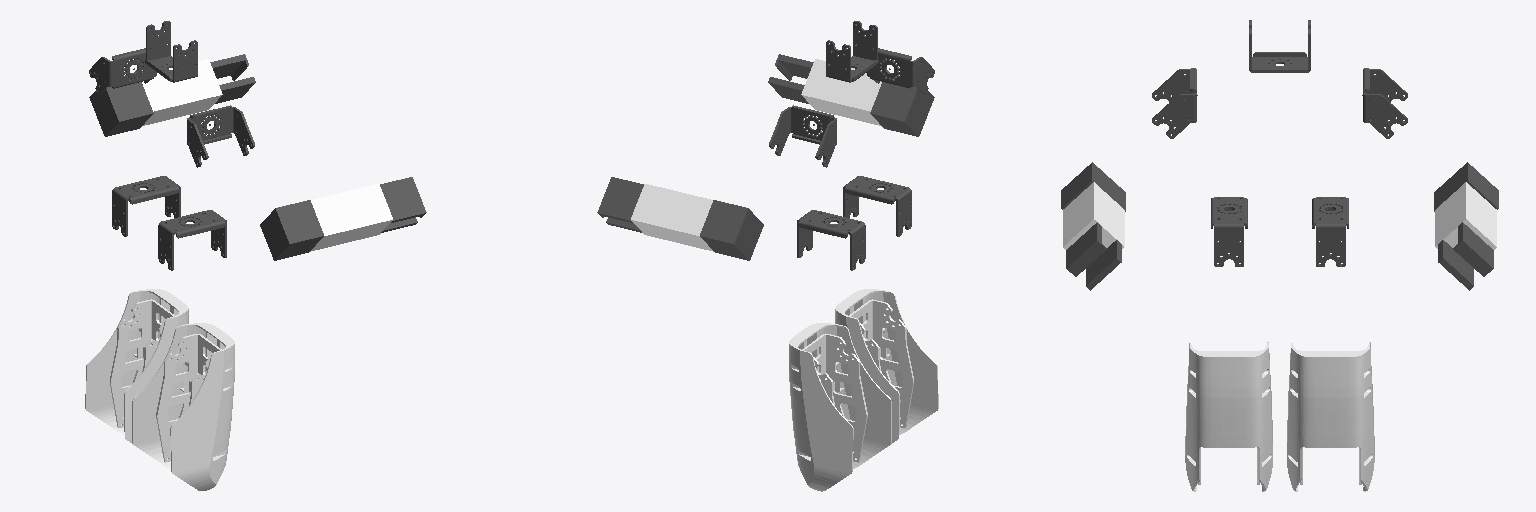
--- What the picture shows (computed from the rendered views, not written in the file) ---
The picture shows the robot from 3 angles, left to right: view 1: azimuth 30°, elevation 25°; view 2: azimuth 150°, elevation 25°; view 3: azimuth 270°, elevation 25°; orthographic projection.
Robot: robotis_op2 — 31 links, 30 joints (24 revolute, 6 fixed); root link base_link; default pose: every joint at zero.
Links seen in each view (by area): view 1: MP_TIBIA_R, MP_TIBIA_L, MP_ARM_GRIPPER_FIX_R, MP_ARM_GRIPPER_FIX_L, MP_ARM_LOW_R, MP_ARM_LOW_L, MP_SHOULDER_R, MP_NECK, MP_PELVIS_R, MP_PELVIS_L, MP_SHOULDER_L, MP_ARM_GRIPPER_MOV_R (+2 smaller); view 2: MP_TIBIA_L, MP_TIBIA_R, MP_ARM_GRIPPER_FIX_L, MP_ARM_GRIPPER_FIX_R, MP_ARM_LOW_L, MP_ARM_LOW_R, MP_SHOULDER_L, MP_NECK, MP_PELVIS_L, MP_PELVIS_R, MP_SHOULDER_R, MP_ARM_GRIPPER_MOV_L (+2 smaller); view 3: MP_TIBIA_L, MP_TIBIA_R, MP_ARM_GRIPPER_FIX_L, MP_ARM_GRIPPER_FIX_R, MP_PELVIS_L, MP_PELVIS_R, MP_SHOULDER_L, MP_SHOULDER_R, MP_NECK, MP_ARM_LOW_L, MP_ARM_LOW_R, MP_ARM_GRIPPER_MOV_L (+3 smaller).
Boxes of the visible links, <box> form: MP_TIBIA_R: <box>132,323,234,490</box>; MP_TIBIA_L: <box>85,289,188,442</box>; MP_ARM_GRIPPER_FIX_R: <box>310,184,392,251</box>; MP_ARM_GRIPPER_FIX_L: <box>142,59,222,125</box>; MP_ARM_LOW_R: <box>260,200,323,260</box>; MP_ARM_LOW_L: <box>89,76,153,136</box>; MP_SHOULDER_R: <box>187,105,254,167</box>; MP_NECK: <box>145,21,197,82</box>; MP_PELVIS_R: <box>158,210,226,270</box>; MP_PELVIS_L: <box>112,176,180,236</box>; MP_SHOULDER_L: <box>89,48,156,94</box>; MP_ARM_GRIPPER_MOV_R: <box>380,177,426,222</box>; MP_TIBIA_L: <box>789,323,891,491</box>; MP_TIBIA_R: <box>835,289,938,442</box>; MP_ARM_GRIPPER_FIX_L: <box>631,184,713,251</box>; MP_ARM_GRIPPER_FIX_R: <box>801,59,881,125</box>; MP_ARM_LOW_L: <box>700,200,763,260</box>; MP_ARM_LOW_R: <box>870,76,934,136</box>; MP_SHOULDER_L: <box>769,105,836,167</box>; MP_NECK: <box>826,21,878,82</box>; MP_PELVIS_L: <box>797,210,865,270</box>; MP_PELVIS_R: <box>843,176,911,236</box>; MP_SHOULDER_R: <box>867,48,934,94</box>; MP_ARM_GRIPPER_MOV_L: <box>597,177,643,222</box>; MP_TIBIA_L: <box>1287,342,1374,491</box>; MP_TIBIA_R: <box>1185,342,1272,491</box>; MP_ARM_GRIPPER_FIX_L: <box>1435,182,1496,249</box>; MP_ARM_GRIPPER_FIX_R: <box>1063,182,1124,249</box>; MP_PELVIS_L: <box>1312,197,1348,266</box>; MP_PELVIS_R: <box>1211,197,1247,266</box>; MP_SHOULDER_L: <box>1363,68,1407,138</box>; MP_SHOULDER_R: <box>1152,68,1196,138</box>; MP_NECK: <box>1249,20,1310,72</box>; MP_ARM_LOW_L: <box>1434,162,1498,211</box>; MP_ARM_LOW_R: <box>1061,162,1125,211</box>; MP_ARM_GRIPPER_MOV_L: <box>1453,222,1493,276</box>.
Size in the robot's own frame: 0.184 by 0.3189 by 0.3758 metres.
7 mesh visuals loaded from 19 distinct referenced files (7 OBJ); not drawn: 12 (reference not matched to a file when rendering).

URDF robot description (robotis_op2):
<?xml version="1.0" ?>
<!-- =================================================================================== -->
<!-- |    This document was autogenerated by xacro from robotis_op.urdf.xacro          | -->
<!-- |    EDITING THIS FILE BY HAND IS NOT RECOMMENDED                                 | -->
<!-- =================================================================================== -->
<robot name="robotis_op2" xmlns:xacro="http://www.ros.org/wiki/xacro">
  <!-- unit conversions -->
  <!-- inventor sometimes gives ridiculous units -->
  <!-- such conversion factors make description easier to read -->
  <!-- unit conversions -->
  <!-- inventor sometimes gives ridiculous units -->
  <!-- such conversion factors make description easier to read -->


  <material name="black">
    <color rgba="0.0 0.0 0.0 1.0"/>
  </material>

  <material name="blue">
    <color rgba="0.0 0.0 0.8 1.0"/>
  </material>

  <material name="green">
    <color rgba="0.0 0.8 0.0 1.0"/>
  </material>

  <material name="grey">
    <color rgba="0.40 0.40 0.40 1.0"/>
  </material>

  <material name="orange">
    <color rgba="1.0 0.4235 0.0392 1.0"/>
  </material>

  <material name="brown">
    <color rgba="1.0 0.8118 0.7647 1.0"/>
  </material>

  <material name="red">
    <color rgba="0.8 0.0 0.0 1.0"/>
  </material>

  <material name="white">
    <color rgba="1.0 1.0 1.0 1.0"/>
  </material>

  <material name="beige">
    <color rgba="0.98 0.915 0.72 1.0"/>
  </material>

  <material name="temp">
    <color rgba="0.5 0.5 0.8 1.0"/>
  </material>


  <link name="base_link"/>
  <link name="MP_BODY">
    <inertial>
      <origin xyz="-0.003053 -0.038651 -0.019268"/>
      <mass value="0.97559947"/>
      <inertia ixx="0.001879411079" ixy="0.0" ixz="0.0" iyy="0.00175933104423" iyz="0.0" izz="0.00181176951575"/>
    </inertial>
    <collision>
      <origin rpy="0 0 0" xyz="-0.0235 0 -0.03525"/>
      <geometry>
        <box size="0.102 0.109 0.106"/>
      </geometry>
    </collision>
    <visual>
      <origin rpy="0 0 0" xyz="0 0 0"/>
      <geometry>
        <mesh filename="meshes/body.obj" scale="1 1 1"/>
      </geometry>
      <material name="white"/>
    </visual>
  </link>
  <joint name="base_link_to_body" type="fixed">
    <parent link="base_link"/>
    <child link="MP_BODY"/>
    <origin rpy="0 0 0" xyz="0 0 0.35"/>
  </joint>
  <gazebo>
    <plugin filename="libhector_gazebo_ros_imu.so" name="gazebo_ros_imu">
      <bodyName>MP_BODY</bodyName>
      <updateRate>50</updateRate>
      <serviceName>/robotis_op/imu_service</serviceName>
      <topicName>/robotis_op/imu</topicName>
      <gaussianNoise>0</gaussianNoise>
      <xyzOffset>0 0 0</xyzOffset>
      <rpyOffset>0 0 -0.703220730592</rpyOffset>
    </plugin>
  </gazebo>
  <link name="MP_BACK_L">
    <inertial>
      <origin xyz="-0.0031158909 0.020443695 -0.019663084"/>
      <mass value="0.01"/>
      <inertia ixx="1.66666666667e-07" ixy="0.0" ixz="0.0" iyy="1.66666666667e-07" iyz="0.0" izz="1.66666666667e-07"/>
    </inertial>
    <collision>
      <origin xyz="-0.0031158909 0.020443695 -0.019663084"/>
      <geometry>
        <box scale="1 1 1" size="0.001 0.001 0.001"/>
      </geometry>
    </collision>
    <visual>
      <origin rpy="0 0 0" xyz="0.0 0.0 0.0"/>
      <geometry>
        <box scale="1 1 1" size="0.001 0.001 0.001"/>
      </geometry>
      <material name="grey"/>
    </visual>
  </link>
  <link name="MP_SHOULDER_L">
    <inertial>
      <origin xyz="-0.013522619 -0.010264050 0.0013935747"/>
      <mass value="0.025913024"/>
      <inertia ixx="3.36377504399e-06" ixy="0.0" ixz="0.0" iyy="1.56497929465e-06" iyz="0.0" izz="2.90441810667e-06"/>
    </inertial>
    <collision>
      <origin xyz="-0.013522619 -0.010264050 0.0013935747"/>
      <geometry>
        <box size="0.016 0.033 0.02165"/>
      </geometry>
    </collision>
    <visual>
      <origin rpy="0 0 0" xyz="0 0 0"/>
      <geometry>
        <mesh filename="meshes/shoulder_l.obj" scale="1 1 1"/>
      </geometry>
      <material name="grey"/>
    </visual>
  </link>
  <link name="MP_ARM_HIGH_L">
    <inertial>
      <origin xyz="-0.036239 0.000734 0.000660"/>
      <mass value="0.16837715"/>
      <inertia ixx="3.15566841958e-05" ixy="0.0" ixz="0.0" iyy="6.77016457292e-05" iyz="0.0" izz="6.48813284667e-05"/>
    </inertial>
    <collision>
      <origin xyz="-0.036239 0.000734 0.000660"/>
      <geometry>
        <box size="0.06 0.032 0.035"/>
      </geometry>
    </collision>
    <visual>
      <origin rpy="0 0 0" xyz="0 0 0"/>
      <geometry>
        <mesh filename="meshes/arm_high_l.obj" scale="1 1 1"/>
      </geometry>
      <material name="white"/>
    </visual>
  </link>
  <link name="MP_ARM_LOW_L">
    <inertial>
      <origin rpy="0 0 0" xyz="0.0 0 0"/>
      <mass value="0.01"/>
      <inertia ixx="8.74166666667e-07" ixy="0.0" ixz="0.0" iyy="1.70666666667e-06" iyz="0.0" izz="8.74166666667e-07"/>
    </inertial>
    <collision>
      <origin rpy="0 0 0" xyz="0.016 0.016 0"/>
      <geometry>
        <box size="0.032 0.032 0.035"/>
      </geometry>
    </collision>
    <visual>
      <origin rpy="0 0 0" xyz="0.016 0.016 0"/>
      <geometry>
        <box size="0.032 0.032 0.035"/>
      </geometry>
      <material name="grey"/>
    </visual>
  </link>
  <link name="MP_ARM_GRIPPER_FIX_L">
    <inertial>
      <origin xyz="0.045838 -0.013490 0.006666"/>
      <mass value="0.01"/>
      <inertia ixx="8.74166666667e-07" ixy="0.0" ixz="0.0" iyy="1.70666666667e-06" iyz="0.0" izz="8.74166666667e-07"/>
    </inertial>
    <collision>
      <origin rpy="0 0 0" xyz="0.016 0 0"/>
      <geometry>
        <box size="0.064 0.032 0.032"/>
      </geometry>
    </collision>
    <visual>
      <origin rpy="0 0 0" xyz="0.016 0 0"/>
      <geometry>
        <box size="0.064 0.032 0.032"/>
      </geometry>
      <material name="white"/>
    </visual>
  </link>
  <link name="MP_ARM_GRIPPER_FIX_DUMMY_L">
    <inertial>
      <origin rpy="0 0 0" xyz="0.0 0 0"/>
      <mass value="0.01"/>
      <inertia ixx="8.74166666667e-07" ixy="0.0" ixz="0.0" iyy="1.70666666667e-06" iyz="0.0" izz="8.74166666667e-07"/>
    </inertial>
    <collision>
      <geometry>
        <box size="0.032 0.005 0.032"/>
      </geometry>
    </collision>
    <visual>
      <origin rpy="0 0 0" xyz="0 0 0"/>
      <geometry>
        <box size="0.032 0.005 0.032"/>
      </geometry>
      <material name="grey"/>
    </visual>
  </link>
  <link name="MP_ARM_GRIPPER_MOV_L">
    <inertial>
      <origin rpy="0 0 0" xyz="0.0 0 0"/>
      <mass value="0.01"/>
      <inertia ixx="8.74166666667e-07" ixy="0.0" ixz="0.0" iyy="1.70666666667e-06" iyz="0.0" izz="8.74166666667e-07"/>
    </inertial>
    <collision name="COL_MP_ARM_GRIPPER_MOV_L">
      <origin rpy="0 0 0" xyz="0.016 0 0"/>
      <geometry>
        <box size="0.032 0.005 0.032"/>
      </geometry>
    </collision>
    <collision name="COL_MP_ARM_GRIPPER_MOV_EXT_L">
      <origin rpy="0 0 0" xyz="0.031 -0.0025 0"/>
      <geometry>
        <box size="0.002 0.01 0.032"/>
      </geometry>
    </collision>
    <visual name="VIS_MP_ARM_GRIPPER_MOV_L">
      <origin rpy="0 0 0" xyz="0.016 0 0"/>
      <geometry>
        <box size="0.032 0.005 0.032"/>
      </geometry>
      <material name="grey"/>
    </visual>
    <visual name="VIS_MP_ARM_GRIPPER_MOV_EXT_L">
      <origin rpy="0 0 0" xyz="0.031 -0.0025 0"/>
      <geometry>
        <box size="0.002 0.01 0.032"/>
      </geometry>
      <material name="grey"/>
    </visual>
  </link>
  <link name="MP_BACK_R">
    <inertial>
      <origin xyz="0.0 0.0 -0.0"/>
      <mass value="0.01"/>
      <inertia ixx="1.66666666667e-07" ixy="0.0" ixz="0.0" iyy="1.66666666667e-07" iyz="0.0" izz="1.66666666667e-07"/>
    </inertial>
    <collision>
      <geometry>
        <box size="0.001 0.001 0.001"/>
      </geometry>
    </collision>
    <visual>
      <origin rpy="0 0 0" xyz="0.0 0.0 0.0"/>
      <geometry>
        <box size="0.001 0.001 0.001"/>
      </geometry>
      <material name="grey"/>
    </visual>
  </link>
  <link name="MP_SHOULDER_R">
    <inertial>
      <origin xyz="-0.013523 0.010264 0.001394"/>
      <mass value="0.025913024"/>
      <inertia ixx="3.36377504399e-06" ixy="0.0" ixz="0.0" iyy="1.56497929465e-06" iyz="0.0" izz="2.90441810667e-06"/>
    </inertial>
    <collision>
      <origin xyz="-0.013523 0.010264 0.001394"/>
      <geometry>
        <box size="0.016 0.033 0.02165"/>
      </geometry>
    </collision>
    <visual>
      <origin rpy="0 0 0" xyz="0 0 0"/>
      <geometry>
        <mesh filename="meshes/shoulder_r.obj" scale="1 1 1"/>
      </geometry>
      <material name="grey"/>
    </visual>
  </link>
  <link name="MP_ARM_HIGH_R">
    <inertial>
      <origin xyz="-0.036239 0.000734 -0.000660"/>
      <mass value="0.16837715"/>
      <inertia ixx="3.15566841958e-05" ixy="0.0" ixz="0.0" iyy="6.77016457292e-05" iyz="0.0" izz="6.48813284667e-05"/>
    </inertial>
    <collision>
      <origin xyz="-0.036239 0.000734 -0.000660"/>
      <geometry>
        <box size="0.06 0.032 0.035"/>
      </geometry>
    </collision>
    <visual>
      <origin rpy="0 0 0" xyz="0 0 0"/>
      <geometry>
        <mesh filename="meshes/arm_high_r.obj" scale="1 1 1"/>
      </geometry>
      <material name="white"/>
    </visual>
  </link>
  <link name="MP_ARM_LOW_R">
    <inertial>
      <origin xyz="0.000000 0.000000 0.000000"/>
      <mass value="0.059288504"/>
      <inertia ixx="1.11116537913e-05" ixy="0.0" ixz="0.0" iyy="1.11116537913e-05" iyz="0.0" izz="1.01185713493e-05"/>
    </inertial>
    <collision>
      <origin rpy="0 0 0" xyz="0.016 -0.016 0"/>
      <geometry>
        <box size="0.032 0.032 0.035"/>
      </geometry>
    </collision>
    <visual>
      <origin rpy="0 0 0" xyz="0.016 -0.016 0"/>
      <geometry>
        <box size="0.032 0.032 0.035"/>
      </geometry>
      <material name="grey"/>
    </visual>
  </link>
  <link name="MP_ARM_GRIPPER_FIX_R">
    <inertial>
      <origin rpy="0 0 0" xyz="0.0 0 0"/>
      <mass value="0.01"/>
      <inertia ixx="8.74166666667e-07" ixy="0.0" ixz="0.0" iyy="1.70666666667e-06" iyz="0.0" izz="8.74166666667e-07"/>
    </inertial>
    <collision>
      <origin rpy="0 0 0" xyz="0.016 0 0"/>
      <geometry>
        <box size="0.064 0.032 0.032"/>
      </geometry>
    </collision>
    <visual>
      <origin rpy="0 0 0" xyz="0.016 0 0"/>
      <geometry>
        <box size="0.064 0.032 0.032"/>
      </geometry>
      <material name="white"/>
    </visual>
  </link>
  <link name="MP_ARM_GRIPPER_FIX_DUMMY_R">
    <inertial>
      <origin xyz="0.0 0.0 0.0"/>
      <mass value="0.01"/>
      <inertia ixx="8.74166666667e-07" ixy="0.0" ixz="0.0" iyy="1.70666666667e-06" iyz="0.0" izz="8.74166666667e-07"/>
    </inertial>
    <collision>
      <geometry>
        <box size="0.032 0.005 0.032"/>
      </geometry>
    </collision>
    <visual>
      <origin rpy="0 0 0" xyz="0 0 0"/>
      <geometry>
        <box size="0.032 0.005 0.032"/>
      </geometry>
      <material name="grey"/>
    </visual>
  </link>
  <link name="MP_ARM_GRIPPER_MOV_R">
    <inertial>
      <origin rpy="0 0 0" xyz="0.016 0 0"/>
      <mass value="0.01"/>
      <inertia ixx="8.53333333333e-07" ixy="0.0" ixz="0.0" iyy="1.70666666667e-06" iyz="0.0" izz="8.53333333333e-07"/>
    </inertial>
    <collision name="COL_MP_ARM_GRIPPER_MOV_R">
      <origin rpy="0 0 0" xyz="0.016 0 0"/>
      <geometry>
        <box size="0.032 0.005 0.032"/>
      </geometry>
    </collision>
    <collision name="COL_MP_ARM_GRIPPER_MOV_EXT_R">
      <origin rpy="0 0 0" xyz="0.031 -0.0025 0"/>
      <geometry>
        <box size="0.002 0.01 0.032"/>
      </geometry>
    </collision>
    <visual name="VIS_MP_ARM_GRIPPER_MOV_R">
      <origin rpy="0 0 0" xyz="0.016 0 0"/>
      <geometry>
        <box size="0.032 0.005 0.032"/>
      </geometry>
      <material name="grey"/>
    </visual>
    <visual name="VIS_MP_ARM_GRIPPER_MOV_EXT_R">
      <origin rpy="0 0 0" xyz="0.031 -0.0025 0"/>
      <geometry>
        <box size="0.002 0.01 0.032"/>
      </geometry>
      <material name="grey"/>
    </visual>
  </link>
  <joint name="j_back_l" type="fixed">
    <parent link="MP_BODY"/>
    <child link="MP_BACK_L"/>
    <origin rpy="-1.5707963 0 0" xyz="0 0.06035 0"/>
    <limit effort="2.8" lower="-2.6179939" upper="2.6179939" velocity="5.6548668"/>
  </joint>
  <joint name="j_shoulder_l" type="revolute">
    <parent link="MP_BACK_L"/>
    <child link="MP_SHOULDER_L"/>
    <origin rpy="0 0 -1.5707963" xyz="0 0 0"/>
    <axis xyz="0 0 1"/>
    <limit effort="2.8" lower="-2.6179939" upper="2.6179939" velocity="5.6548668"/>
  </joint>
  <joint name="j_high_arm_l" type="revolute">
    <parent link="MP_SHOULDER_L"/>
    <child link="MP_ARM_HIGH_L"/>
    <origin rpy="1.5707963 0.78539815 0" xyz="-0.016 0 0.02165"/>
    <axis xyz="0 0 1"/>
    <limit effort="2.8" lower="-2.6179939" upper="2.6179939" velocity="5.648668"/>
  </joint>
  <joint name="j_low_arm_l" type="revolute">
    <parent link="MP_ARM_HIGH_L"/>
    <child link="MP_ARM_LOW_L"/>
    <origin rpy="-1.5707963 1.5707963 0" xyz="-0.06 0 -0.016"/>
    <axis xyz="0 0 1"/>
    <limit effort="2.8" lower="-2.6179939" upper="2.6179939" velocity="5.6548668"/>
  </joint>
  <joint name="j_wrist_l" type="revolute">
    <parent link="MP_ARM_LOW_L"/>
    <child link="MP_ARM_GRIPPER_FIX_L"/>
    <origin rpy="1.5707963 0 0" xyz="0.048 0.016 0"/>
    <axis xyz="0 0 1"/>
    <limit effort="2.8" lower="-2.6179939" upper="2.6179939" velocity="5.6548668"/>
  </joint>
  <joint name="j_wrist_dummy_l" type="fixed">
    <parent link="MP_ARM_GRIPPER_FIX_L"/>
    <child link="MP_ARM_GRIPPER_FIX_DUMMY_L"/>
    <origin rpy="0 0 0" xyz="0.064 -0.01 0"/>
  </joint>
  <joint name="j_gripper_l" type="revolute">
    <parent link="MP_ARM_GRIPPER_FIX_L"/>
    <child link="MP_ARM_GRIPPER_MOV_L"/>
    <origin rpy="0 0 0" xyz="0.048 0.01 0"/>
    <axis xyz="0 0 1"/>
    <limit effort="2.8" lower="-2.6179939" upper="2.6179939" velocity="5.6548668"/>
  </joint>
  <joint name="j_back_r" type="fixed">
    <parent link="MP_BODY"/>
    <child link="MP_BACK_R"/>
    <origin rpy="1.5707963 0 0" xyz="0 -0.06035 0"/>
    <limit effort="2.8" lower="-2.6179939" upper="2.6179939" velocity="5.6548668"/>
  </joint>
  <joint name="j_shoulder_r" type="revolute">
    <parent link="MP_BACK_R"/>
    <child link="MP_SHOULDER_R"/>
    <origin rpy="0 0 1.5707963" xyz="0 0 0"/>
    <axis xyz="0 0 1"/>
    <limit effort="2.8" lower="-2.6179939" upper="2.6179939" velocity="5.6548668"/>
  </joint>
  <joint name="j_high_arm_r" type="revolute">
    <parent link="MP_SHOULDER_R"/>
    <child link="MP_ARM_HIGH_R"/>
    <origin rpy="-1.5707963 0.78539815 0" xyz="-0.016 0 0.02165"/>
    <axis xyz="0 0 1"/>
    <limit effort="2.8" lower="-2.6179939" upper="2.6179939" velocity="5.648668"/>
  </joint>
  <joint name="j_low_arm_r" type="revolute">
    <parent link="MP_ARM_HIGH_R"/>
    <child link="MP_ARM_LOW_R"/>
    <origin rpy="1.5707963 1.5707963 0" xyz="-0.06 0 -0.016"/>
    <axis xyz="0 0 1"/>
    <limit effort="2.8" lower="-2.6179939" upper="2.6179939" velocity="5.6548668"/>
  </joint>
  <joint name="j_wrist_r" type="revolute">
    <parent link="MP_ARM_LOW_R"/>
    <child link="MP_ARM_GRIPPER_FIX_R"/>
    <origin rpy="1.5707963 0 0" xyz="0.048 -0.016 0"/>
    <axis xyz="0 0 1"/>
    <limit effort="2.8" lower="-2.6179939" upper="2.6179939" velocity="5.6548668"/>
  </joint>
  <joint name="j_wrist_dummy_r" type="fixed">
    <parent link="MP_ARM_GRIPPER_FIX_R"/>
    <child link="MP_ARM_GRIPPER_FIX_DUMMY_R"/>
    <origin rpy="0 0 0" xyz="0.064 -0.01 0"/>
  </joint>
  <joint name="j_gripper_r" type="revolute">
    <parent link="MP_ARM_GRIPPER_FIX_R"/>
    <child link="MP_ARM_GRIPPER_MOV_R"/>
    <origin rpy="0 0 0" xyz="0.048 0.01 0"/>
    <axis xyz="0 0 1"/>
    <limit effort="2.8" lower="-2.6179939" upper="2.6179939" velocity="5.6548668"/>
  </joint>
  <transmission name="j_shoulder_l_transmssion">
    <type>transmission_interface/SimpleTransmission</type>
    <joint name="j_shoulder_l">
      <hardwareInterface>EffortJointInterface</hardwareInterface>
    </joint>
    <actuator name="j_shoulder_l_motor">
      <hardwareInterface>EffortJointInterface</hardwareInterface>
      <mechanicalReduction>1</mechanicalReduction>
    </actuator>
  </transmission>
  <gazebo reference="j_shoulder_l">
    <implicitSpringDamper>1</implicitSpringDamper>
  </gazebo>
  <transmission name="j_high_arm_l_transmssion">
    <type>transmission_interface/SimpleTransmission</type>
    <joint name="j_high_arm_l">
      <hardwareInterface>EffortJointInterface</hardwareInterface>
    </joint>
    <actuator name="j_high_arm_l_motor">
      <hardwareInterface>EffortJointInterface</hardwareInterface>
      <mechanicalReduction>1</mechanicalReduction>
    </actuator>
  </transmission>
  <gazebo reference="j_high_arm_l">
    <implicitSpringDamper>1</implicitSpringDamper>
  </gazebo>
  <transmission name="j_low_arm_l_transmssion">
    <type>transmission_interface/SimpleTransmission</type>
    <joint name="j_low_arm_l">
      <hardwareInterface>EffortJointInterface</hardwareInterface>
    </joint>
    <actuator name="j_low_arm_l_motor">
      <hardwareInterface>EffortJointInterface</hardwareInterface>
      <mechanicalReduction>1</mechanicalReduction>
    </actuator>
  </transmission>
  <gazebo reference="j_low_arm_l">
    <implicitSpringDamper>1</implicitSpringDamper>
  </gazebo>
  <transmission name="j_wrist_l_transmssion">
    <type>transmission_interface/SimpleTransmission</type>
    <joint name="j_wrist_l">
      <hardwareInterface>EffortJointInterface</hardwareInterface>
    </joint>
    <actuator name="j_wrist_l_motor">
      <hardwareInterface>EffortJointInterface</hardwareInterface>
      <mechanicalReduction>1</mechanicalReduction>
    </actuator>
  </transmission>
  <gazebo reference="j_wrist_l">
    <implicitSpringDamper>1</implicitSpringDamper>
  </gazebo>
  <transmission name="j_gripper_l_transmssion">
    <type>transmission_interface/SimpleTransmission</type>
    <joint name="j_gripper_l">
      <hardwareInterface>EffortJointInterface</hardwareInterface>
    </joint>
    <actuator name="j_gripper_l_motor">
      <hardwareInterface>EffortJointInterface</hardwareInterface>
      <mechanicalReduction>1</mechanicalReduction>
    </actuator>
  </transmission>
  <gazebo reference="j_gripper_l">
    <implicitSpringDamper>1</implicitSpringDamper>
  </gazebo>
  <transmission name="j_shoulder_r_transmssion">
    <type>transmission_interface/SimpleTransmission</type>
    <joint name="j_shoulder_r">
      <hardwareInterface>EffortJointInterface</hardwareInterface>
    </joint>
    <actuator name="j_shoulder_r_motor">
      <hardwareInterface>EffortJointInterface</hardwareInterface>
      <mechanicalReduction>1</mechanicalReduction>
    </actuator>
  </transmission>
  <gazebo reference="j_shoulder_r">
    <implicitSpringDamper>1</implicitSpringDamper>
  </gazebo>
  <transmission name="j_high_arm_r_transmssion">
    <type>transmission_interface/SimpleTransmission</type>
    <joint name="j_high_arm_r">
      <hardwareInterface>EffortJointInterface</hardwareInterface>
    </joint>
    <actuator name="j_high_arm_r_motor">
      <hardwareInterface>EffortJointInterface</hardwareInterface>
      <mechanicalReduction>1</mechanicalReduction>
    </actuator>
  </transmission>
  <gazebo reference="j_high_arm_r">
    <implicitSpringDamper>1</implicitSpringDamper>
  </gazebo>
  <transmission name="j_low_arm_r_transmssion">
    <type>transmission_interface/SimpleTransmission</type>
    <joint name="j_low_arm_r">
      <hardwareInterface>EffortJointInterface</hardwareInterface>
    </joint>
    <actuator name="j_low_arm_r_motor">
      <hardwareInterface>EffortJointInterface</hardwareInterface>
      <mechanicalReduction>1</mechanicalReduction>
    </actuator>
  </transmission>
  <gazebo reference="j_low_arm_r">
    <implicitSpringDamper>1</implicitSpringDamper>
  </gazebo>
  <transmission name="j_wrist_r_transmssion">
    <type>transmission_interface/SimpleTransmission</type>
    <joint name="j_wrist_r">
      <hardwareInterface>EffortJointInterface</hardwareInterface>
    </joint>
    <actuator name="j_wrist_r_motor">
      <hardwareInterface>EffortJointInterface</hardwareInterface>
      <mechanicalReduction>1</mechanicalReduction>
    </actuator>
  </transmission>
  <gazebo reference="j_wrist_r">
    <implicitSpringDamper>1</implicitSpringDamper>
  </gazebo>
  <transmission name="j_gripper_r_transmssion">
    <type>transmission_interface/SimpleTransmission</type>
    <joint name="j_gripper_r">
      <hardwareInterface>EffortJointInterface</hardwareInterface>
    </joint>
    <actuator name="j_gripper_r_motor">
      <hardwareInterface>EffortJointInterface</hardwareInterface>
      <mechanicalReduction>1</mechanicalReduction>
    </actuator>
  </transmission>
  <gazebo reference="j_gripper_r">
    <implicitSpringDamper>1</implicitSpringDamper>
  </gazebo>
  <link name="MP_NECK">
    <inertial>
      <origin xyz="0.001424 -0.016567 -0.007128"/>
      <mass value="0.024357719"/>
      <inertia ixx="3.12641472415e-06" ixy="0.0" ixz="0.0" iyy="6.25435180573e-06" iyz="0.0" izz="5.09279308092e-06"/>
    </inertial>
    <collision>
      <origin xyz="0.0 -0.0 0.01525"/>
      <geometry>
        <box size="0.045 0.022 0.0325"/>
      </geometry>
    </collision>
    <visual>
      <origin rpy="0 0 0" xyz="0 0 0"/>
      <geometry>
        <mesh filename="meshes/neck.obj" scale="1 1 1"/>
      </geometry>
      <material name="grey"/>
    </visual>
  </link>
  <link name="MP_HEAD">
    <inertial>
      <origin xyz="0.000064 -0.018565 -0.007667"/>
      <mass value="0.15804192"/>
      <inertia ixx="0.000122387662848" ixy="0.0" ixz="0.0" iyy="0.000122387662848" iyz="0.0" izz="0.000122387662848"/>
    </inertial>
    <collision>
      <origin xyz="0.000064 -0.018565 -0.0"/>
      <geometry>
        <sphere radius="0.044"/>
      </geometry>
    </collision>
    <visual>
      <origin rpy="0 0 0" xyz="0 0 0"/>
      <geometry>
        <mesh filename="meshes/head.obj" scale="1 1 1"/>
      </geometry>
      <material name="white"/>
    </visual>
  </link>
  <link name="MP_PMDCAMBOARD">
  </link>
  <joint name="j_camboard" type="fixed">
    <parent link="MP_HEAD"/>
    <child link="MP_PMDCAMBOARD"/>
    <origin rpy="3.14159 1.5707963 0" xyz="0 0 0.0235"/>
    <axis xyz="0 0 1"/>
    <limit effort="2.8" lower="-2.6179939" upper="2.6179939" velocity="5.6548668"/>
  </joint>
  <joint name="j_pan" type="revolute">
    <parent link="MP_BODY"/>
    <child link="MP_NECK"/>
    <origin rpy="0 0 1.5707963" xyz="0 0 0.0235"/>
    <axis xyz="0 0 1"/>
    <limit effort="2.8" lower="-2.6179939" upper="2.6179939" velocity="5.6548668"/>
  </joint>
  <joint name="j_tilt" type="revolute">
    <parent link="MP_NECK"/>
    <child link="MP_HEAD"/>
    <origin rpy="-1.5707963 0 1.5707963" xyz="0 0 0.02715"/>
    <axis xyz="0 0 1"/>
    <limit effort="2.8" lower="-2.6179939" upper="2.6179939" velocity="5.6548668"/>
  </joint>
  <transmission name="j_pan_transmssion">
    <type>transmission_interface/SimpleTransmission</type>
    <joint name="j_pan">
      <hardwareInterface>EffortJointInterface</hardwareInterface>
    </joint>
    <actuator name="j_pan_motor">
      <hardwareInterface>EffortJointInterface</hardwareInterface>
      <mechanicalReduction>1</mechanicalReduction>
    </actuator>
  </transmission>
  <gazebo reference="j_pan">
    <implicitSpringDamper>1</implicitSpringDamper>
  </gazebo>
  <transmission name="j_tilt_transmssion">
    <type>transmission_interface/SimpleTransmission</type>
    <joint name="j_tilt">
      <hardwareInterface>EffortJointInterface</hardwareInterface>
    </joint>
    <actuator name="j_tilt_motor">
      <hardwareInterface>EffortJointInterface</hardwareInterface>
      <mechanicalReduction>1</mechanicalReduction>
    </actuator>
  </transmission>
  <gazebo reference="j_tilt">
    <implicitSpringDamper>1</implicitSpringDamper>
  </gazebo>
  <gazebo reference="MP_HEAD">
    <sensor name="camera" type="camera">
      <pose>-0.050000 -0.010000 0.000000 -1.5708 0.000000 -3.141592</pose>
      <camera name="__default__">
        <horizontal_fov>1.012300</horizontal_fov>
        <image>
          <width>320</width>
          <height>200</height>
        </image>
        <clip>
          <near>0.001000</near>
          <far>100.000000</far>
        </clip>
      </camera>
      <always_on>1</always_on>
      <update_rate>30.000000</update_rate>
      <visualize>1</visualize>
      <plugin filename="libgazebo_ros_camera.so" name="camera_controller">
        <alwaysOn>true</alwaysOn>
        <updateRate>30</updateRate>
        <cameraName>robotis_op/camera</cameraName>
        <imageTopicName>image_raw</imageTopicName>
        <cameraInfoTopicName>camera_info</cameraInfoTopicName>
        <frameName>camera_link</frameName>
        <hackBaseline>0.07</hackBaseline>
        <distortionK1>0.0</distortionK1>
        <distortionK2>0.0</distortionK2>
        <distortionK3>0.0</distortionK3>
        <distortionT1>0.0</distortionT1>
        <distortionT2>0.0</distortionT2>
      </plugin>
    </sensor>
  </gazebo>
  <link name="MP_PELVIS_L">
    <inertial>
      <origin xyz="0.000000 0.000480 0.018437"/>
      <mass value="0.197"/>
      <inertia ixx="5.00544166667e-05" ixy="0.0" ixz="0.0" iyy="2.70710833333e-05" iyz="0.0" izz="4.35041666667e-05"/>
    </inertial>
    <collision>
      <origin xyz="0.000000 -0.010580 0.028437"/>
      <geometry>
        <box size="0.045 0.08175 0.028652"/>
      </geometry>
    </collision>
    <visual>
      <origin rpy="0 0 0" xyz="0 0 0"/>
      <geometry>
        <mesh filename="meshes/pelvis_l.obj" scale="1 1 1"/>
      </geometry>
      <material name="grey"/>
    </visual>
  </link>
  <link name="MP_THIGH1_L">
    <inertial>
      <origin xyz="0.000079 0.018242 0.013873"/>
      <mass value="0.11904336"/>
      <inertia ixx="8.63864182575e-05" ixy="0.0" ixz="0.0" iyy="7.44417771916e-05" iyz="0.0" izz="2.82324929341e-05"/>
    </inertial>
    <collision>
      <origin xyz="0.000079 0.018242 0.013873"/>
      <geometry>
        <box size="0.001 0.001 0.001"/>
      </geometry>
    </collision>
    <visual>
      <origin rpy="0 0 0" xyz="0 0 0"/>
      <geometry>
        <mesh filename="meshes/thigh1_l.obj" scale="1 1 1"/>
      </geometry>
      <material name="grey"/>
    </visual>
  </link>
  <link name="MP_THIGH2_L">
    <inertial>
      <origin xyz="-0.062965 -0.000323 0.000692"/>
      <mass value="0.0070309794"/>
      <inertia ixx="1.9042235875e-06" ixy="0.0" ixz="0.0" iyy="6.2540561763e-06" iyz="0.0" izz="5.7853242163e-06"/>
    </inertial>
    <collision>
      <origin xyz="-0.062965 -0.000323 0.000692"/>
      <geometry>
        <box size="0.093 0.035 0.045"/>
      </geometry>
    </collision>
    <visual>
      <origin rpy="0 0 0" xyz="0 0 0"/>
      <geometry>
        <mesh filename="meshes/thigh2_l.obj" scale="1 1 1"/>
      </geometry>
      <mass value="0.0070309794"/>
      <material name="white"/>
    </visual>
  </link>
  <link name="MP_TIBIA_L">
    <inertial>
      <origin xyz="-0.053955 0.006548 -0.000592"/>
      <mass value="0.0070309794"/>
      <inertia ixx="1.9042235875e-06" ixy="0.0" ixz="0.0" iyy="6.2540561763e-06" iyz="0.0" izz="5.7853242163e-06"/>
    </inertial>
    <collision>
      <origin xyz="-0.053955 0.006548 -0.000592"/>
      <geometry>
        <box size="0.093 0.035 0.045"/>
      </geometry>
    </collision>
    <visual>
      <origin rpy="0 0 0" xyz="0 0 0"/>
      <geometry>
        <mesh filename="meshes/tibia_l.obj" scale="1 1 1"/>
      </geometry>
      <material name="white"/> 
   </visual>
  </link>
  <link name="MP_ANKLE1_L">
    <inertial>
      <origin xyz="-0.000214 -0.018536 0.013873"/>
      <mass value="0.16710792"/>
      <inertia ixx="8.87491015337e-05" ixy="0.0" ixz="0.0" iyy="3.78635506981e-05" iyz="0.0" izz="9.24947852318e-05"/>
    </inertial>
    <collision>
      <origin xyz="-0.000214 -0.018536 0.013873"/>
      <geometry>
        <box size="0.028652 0.08175 0.045"/>
      </geometry>
    </collision>
    <visual>
      <origin rpy="0 0 0" xyz="0 0 0"/>
      <geometry>
        <mesh filename="meshes/ankle1_l.obj" scale="1 1 1"/>
      </geometry>
      <material name="grey"/>
    </visual>
  </link>
  <link name="MP_ANKLE2_L">
    <inertial>
      <origin xyz="-0.025995 -0.009506 -0.000503"/>
      <mass value="0.0794462"/>
      <inertia ixx="0.000100446478867" ixy="0.0" ixz="0.0" iyy="7.20312213333e-05" iyz="0.0" izz="2.92626836667e-05"/>
    </inertial>
    <collision>
      <origin xyz="-0.025995 -0.009506 -0.000503"/>
      <geometry>
        <box size="0.008 0.066 0.104"/>
      </geometry>
    </collision>
    <visual>
      <origin rpy="0 0 0" xyz="0 0 0"/>
      <geometry>
        <mesh filename="meshes/ankle2_l.obj" scale="1 1 1"/>
      </geometry>
      <material name="white"/>
    </visual>
  </link>
  <link name="MP_PELVIS_R">
    <inertial>
      <origin xyz="0.000000 0.000480 0.018437"/>
      <mass value="0.197"/>
      <inertia ixx="5.00544166667e-05" ixy="0.0" ixz="0.0" iyy="2.70710833333e-05" iyz="0.0" izz="4.35041666667e-05"/>
    </inertial>
    <collision>
      <origin xyz="0.000000 0.010580 0.028437"/>
      <geometry>
        <box size="0.045 0.08175 0.028652"/>
      </geometry>
    </collision>
    <visual>
      <origin rpy="0 0 0" xyz="0 0 0"/>
      <geometry>
        <mesh filename="meshes/pelvis_r.obj" scale="1 1 1"/>
      </geometry>
      <material name="grey"/>
    </visual>
  </link>
  <link name="MP_THIGH1_R">
    <inertial>
      <origin xyz="0.000079 -0.018242 0.013873"/>
      <mass value="0.11904336"/>
      <inertia ixx="8.63864182575e-05" ixy="0.0" ixz="0.0" iyy="7.44417771916e-05" iyz="0.0" izz="2.82324929341e-05"/>
    </inertial>
    <collision>
      <origin xyz="0.000079 -0.018242 0.0138735"/>
      <geometry>
        <box size="0.001 0.001 0.001"/>
      </geometry>
    </collision>
    <visual>
      <origin rpy="0 0 0" xyz="0 0 0"/>
      <geometry>
        <mesh filename="meshes/thigh1_r.obj" scale="1 1 1"/>
      </geometry>
      <material name="grey"/>
    </visual>
  </link>
  <link name="MP_THIGH2_R">
    <inertial>
      <origin xyz="0.062965 -0.000323 0.000692"/>
      <mass value="0.11904336"/>
      <inertia ixx="3.224091e-05" ixy="0.0" ixz="0.0" iyy="0.00010588906872" iyz="0.0" izz="9.795284472e-05"/>
    </inertial>
    <collision>
      <origin xyz="0.062965 -0.000323 0.000692"/>
      <geometry>
        <box size="0.093 0.035 0.045"/>
      </geometry>
    </collision>
    <visual>
      <origin rpy="0 0 0" xyz="0 0 0"/>
      <geometry>
        <mesh filename="meshes/thigh2_r.obj" scale="1 1 1"/>
      </geometry>
      <material name="white"/>
    </visual>
  </link>
  <link name="MP_TIBIA_R">
    <inertial>
      <origin xyz="0.053955 0.006548 -0.000592"/>
      <mass value="0.070309794"/>
      <inertia ixx="1.9042235875e-05" ixy="0.0" ixz="0.0" iyy="6.2540561763e-05" iyz="0.0" izz="5.7853242163e-05"/>
    </inertial>
    <collision>
      <origin xyz="0.053955 0.006548 -0.000592"/>
      <geometry>
        <box size="0.093 0.035 0.045"/>
      </geometry>
    </collision>
    <visual>
      <origin rpy="0 0 0" xyz="0 0 0"/>
      <geometry>
        <mesh filename="meshes/tibia_r.obj" scale="1 1 1"/>
      </geometry>
      <material name="white"/>
    </visual>
  </link>
  <link name="MP_ANKLE1_R">
    <inertial>
      <origin xyz="-0.000214 -0.018536 -0.013873"/>
      <mass value="0.16710792"/>
      <inertia ixx="8.87491015337e-05" ixy="0.0" ixz="0.0" iyy="3.78635506981e-05" iyz="0.0" izz="9.24947852318e-05"/>
    </inertial>
    <collision>
      <origin xyz="-0.000214 -0.018536 0.013873"/>
      <geometry>
        <box size="0.028652 0.08175 0.045"/>
      </geometry>
    </collision>
    <visual>
      <origin rpy="0 0 0" xyz="0 0 0"/>
      <geometry>
        <mesh filename="meshes/ankle1_r.obj" scale="1 1 1"/>
      </geometry>
      <material name="grey"/>
    </visual>
  </link>
  <link name="MP_ANKLE2_R">
    <inertial>
      <origin xyz="0.025995 -0.009506 -0.000503"/>
      <mass value="0.0794462"/>
      <inertia ixx="0.000100446478867" ixy="0.0" ixz="0.0" iyy="7.20312213333e-05" iyz="0.0" izz="2.92626836667e-05"/>
    </inertial>
    <collision>
      <origin xyz="0.025995 -0.009506 -0.000503"/>
      <geometry>
        <box size="0.008 0.066 0.104"/>
      </geometry>
    </collision>
    <visual>
      <origin rpy="0 0 0" xyz="0 0 0"/>
      <geometry>
        <mesh filename="meshes/ankle2_r.obj" scale="1 1 1"/>
      </geometry>
      <material name="white"/>
    </visual>
  </link>
  <joint name="j_pelvis_l" type="revolute">
    <parent link="MP_BODY"/>
    <child link="MP_PELVIS_L"/>
    <origin rpy="0 3.14159 -1.5707963" xyz="-0.005 0.037 -0.09355"/>
    <axis xyz="0 0 1"/>
    <limit effort="2.8" lower="-2.6179939" upper="2.6179939" velocity="5.6548668"/>
  </joint>
  <joint name="j_thigh1_l" type="revolute">
    <parent link="MP_PELVIS_L"/>
    <child link="MP_THIGH1_L"/>
    <origin rpy="1.5707963 0 0" xyz="0 0 0.028652"/>
    <axis xyz="0 0 1"/>
    <limit effort="2.8" lower="-2.6179939" upper="2.6179939" velocity="5.6548668"/>
  </joint>
  <joint name="j_thigh2_l" type="revolute">
    <parent link="MP_THIGH1_L"/>
    <child link="MP_THIGH2_L"/>
    <origin rpy="1.5707963 0 -1.5707963" xyz="0 0 0"/>
    <axis xyz="0 0 1"/>
    <limit effort="2.8" lower="-2.6179939" upper="2.6179939" velocity="5.6548668"/>
  </joint>
  <joint name="j_tibia_l" type="revolute">
    <parent link="MP_THIGH2_L"/>
    <child link="MP_TIBIA_L"/>
    <origin rpy="0 0 0" xyz="-0.093 0 0"/>
    <axis xyz="0 0 1"/>
    <limit effort="2.8" lower="-2.6179939" upper="2.6179939" velocity="5.6548668"/>
  </joint>
  <joint name="j_ankle1_l" type="revolute">
    <parent link="MP_TIBIA_L"/>
    <child link="MP_ANKLE1_L"/>
    <origin rpy="3.14159 0 0" xyz="-0.093 0 0"/>
    <axis xyz="0 0 1"/>
    <limit effort="2.8" lower="-2.6179939" upper="2.6179939" velocity="5.6548668"/>
  </joint>
  <joint name="j_ankle2_l" type="revolute">
    <parent link="MP_ANKLE1_L"/>
    <child link="MP_ANKLE2_L"/>
    <origin rpy="-1.5707963 0 0" xyz="0 0 0"/>
    <axis xyz="0 0 1"/>
    <limit effort="2.8" lower="-2.6179939" upper="2.6179939" velocity="5.6548668"/>
  </joint>
  <joint name="j_pelvis_r" type="revolute">
    <parent link="MP_BODY"/>
    <child link="MP_PELVIS_R"/>
    <origin rpy="0 3.14159 1.5707963" xyz="-0.005 -0.037 -0.09355"/>
    <axis xyz="0 0 1"/>
    <limit effort="2.8" lower="-2.6179939" upper="2.6179939" velocity="5.6548668"/>
  </joint>
  <joint name="j_thigh1_r" type="revolute">
    <parent link="MP_PELVIS_R"/>
    <child link="MP_THIGH1_R"/>
    <origin rpy="-1.5707963 0 0" xyz="0 0 0.028652"/>
    <axis xyz="0 0 1"/>
    <limit effort="2.8" lower="-2.6179939" upper="2.6179939" velocity="5.6548668"/>
  </joint>
  <joint name="j_thigh2_r" type="revolute">
    <parent link="MP_THIGH1_R"/>
    <child link="MP_THIGH2_R"/>
    <origin rpy="1.5707963 0 -1.5707963" xyz="0 0 0"/>
    <axis xyz="0 0 1"/>
    <limit effort="2.8" lower="-2.6179939" upper="2.6179939" velocity="5.6548668"/>
  </joint>
  <joint name="j_tibia_r" type="revolute">
    <parent link="MP_THIGH2_R"/>
    <child link="MP_TIBIA_R"/>
    <origin rpy="0 0 0" xyz="0.093 0 0"/>
    <axis xyz="0 0 1"/>
    <limit effort="2.8" lower="-2.6179939" upper="2.6179939" velocity="5.6548668"/>
  </joint>
  <joint name="j_ankle1_r" type="revolute">
    <parent link="MP_TIBIA_R"/>
    <child link="MP_ANKLE1_R"/>
    <origin rpy="3.14159 0 0" xyz="0.093 0 0"/>
    <axis xyz="0 0 1"/>
    <limit effort="2.8" lower="-2.6179939" upper="2.6179939" velocity="5.6548668"/>
  </joint>
  <joint name="j_ankle2_r" type="revolute">
    <parent link="MP_ANKLE1_R"/>
    <child link="MP_ANKLE2_R"/>
    <origin rpy="-1.5707963 0 0" xyz="0 0 0"/>
    <axis xyz="0 0 1"/>
    <limit effort="2.8" lower="-2.6179939" upper="2.6179939" velocity="5.6548668"/>
  </joint>
  <transmission name="j_pelvis_l_transmssion">
    <type>transmission_interface/SimpleTransmission</type>
    <joint name="j_pelvis_l">
      <hardwareInterface>EffortJointInterface</hardwareInterface>
    </joint>
    <actuator name="j_pelvis_l_motor">
      <hardwareInterface>EffortJointInterface</hardwareInterface>
      <mechanicalReduction>1</mechanicalReduction>
    </actuator>
  </transmission>
  <gazebo reference="j_pelvis_l">
    <implicitSpringDamper>1</implicitSpringDamper>
  </gazebo>
  <transmission name="j_thigh1_l_transmssion">
    <type>transmission_interface/SimpleTransmission</type>
    <joint name="j_thigh1_l">
      <hardwareInterface>EffortJointInterface</hardwareInterface>
    </joint>
    <actuator name="j_thigh1_l_motor">
      <hardwareInterface>EffortJointInterface</hardwareInterface>
      <mechanicalReduction>1</mechanicalReduction>
    </actuator>
  </transmission>
  <gazebo reference="j_thigh1_l">
    <implicitSpringDamper>1</implicitSpringDamper>
  </gazebo>
  <transmission name="j_thigh2_l_transmssion">
    <type>transmission_interface/SimpleTransmission</type>
    <joint name="j_thigh2_l">
      <hardwareInterface>EffortJointInterface</hardwareInterface>
    </joint>
    <actuator name="j_thigh2_l_motor">
      <hardwareInterface>EffortJointInterface</hardwareInterface>
      <mechanicalReduction>1</mechanicalReduction>
    </actuator>
  </transmission>
  <gazebo reference="j_thigh2_l">
    <implicitSpringDamper>1</implicitSpringDamper>
  </gazebo>
  <transmission name="j_tibia_l_transmssion">
    <type>transmission_interface/SimpleTransmission</type>
    <joint name="j_tibia_l">
      <hardwareInterface>EffortJointInterface</hardwareInterface>
    </joint>
    <actuator name="j_tibia_l_motor">
      <hardwareInterface>EffortJointInterface</hardwareInterface>
      <mechanicalReduction>1</mechanicalReduction>
    </actuator>
  </transmission>
  <gazebo reference="j_tibia_l">
    <implicitSpringDamper>1</implicitSpringDamper>
  </gazebo>
  <transmission name="j_ankle1_l_transmssion">
    <type>transmission_interface/SimpleTransmission</type>
    <joint name="j_ankle1_l">
      <hardwareInterface>EffortJointInterface</hardwareInterface>
    </joint>
    <actuator name="j_ankle1_l_motor">
      <hardwareInterface>EffortJointInterface</hardwareInterface>
      <mechanicalReduction>1</mechanicalReduction>
    </actuator>
  </transmission>
  <gazebo reference="j_ankle1_l">
    <implicitSpringDamper>1</implicitSpringDamper>
  </gazebo>
  <transmission name="j_ankle2_l_transmssion">
    <type>transmission_interface/SimpleTransmission</type>
    <joint name="j_ankle2_l">
      <hardwareInterface>EffortJointInterface</hardwareInterface>
    </joint>
    <actuator name="j_ankle2_l_motor">
      <hardwareInterface>EffortJointInterface</hardwareInterface>
      <mechanicalReduction>1</mechanicalReduction>
    </actuator>
  </transmission>
  <gazebo reference="j_ankle2_l">
    <implicitSpringDamper>1</implicitSpringDamper>
  </gazebo>
  <transmission name="j_pelvis_r_transmssion">
    <type>transmission_interface/SimpleTransmission</type>
    <joint name="j_pelvis_r">
      <hardwareInterface>EffortJointInterface</hardwareInterface>
    </joint>
    <actuator name="j_pelvis_r_motor">
      <hardwareInterface>EffortJointInterface</hardwareInterface>
      <mechanicalReduction>1</mechanicalReduction>
    </actuator>
  </transmission>
  <gazebo reference="j_pelvis_r">
    <implicitSpringDamper>1</implicitSpringDamper>
  </gazebo>
  <transmission name="j_thigh1_r_transmssion">
    <type>transmission_interface/SimpleTransmission</type>
    <joint name="j_thigh1_r">
      <hardwareInterface>EffortJointInterface</hardwareInterface>
    </joint>
    <actuator name="j_thigh1_r_motor">
      <hardwareInterface>EffortJointInterface</hardwareInterface>
      <mechanicalReduction>1</mechanicalReduction>
    </actuator>
  </transmission>
  <gazebo reference="j_thigh1_r">
    <implicitSpringDamper>1</implicitSpringDamper>
  </gazebo>
  <transmission name="j_thigh2_r_transmssion">
    <type>transmission_interface/SimpleTransmission</type>
    <joint name="j_thigh2_r">
      <hardwareInterface>EffortJointInterface</hardwareInterface>
    </joint>
    <actuator name="j_thigh2_r_motor">
      <hardwareInterface>EffortJointInterface</hardwareInterface>
      <mechanicalReduction>1</mechanicalReduction>
    </actuator>
  </transmission>
  <gazebo reference="j_thigh2_r">
    <implicitSpringDamper>1</implicitSpringDamper>
  </gazebo>
  <transmission name="j_tibia_r_transmssion">
    <type>transmission_interface/SimpleTransmission</type>
    <joint name="j_tibia_r">
      <hardwareInterface>EffortJointInterface</hardwareInterface>
    </joint>
    <actuator name="j_tibia_r_motor">
      <hardwareInterface>EffortJointInterface</hardwareInterface>
      <mechanicalReduction>1</mechanicalReduction>
    </actuator>
  </transmission>
  <gazebo reference="j_tibia_r">
    <implicitSpringDamper>1</implicitSpringDamper>
  </gazebo>
  <transmission name="j_ankle1_r_transmssion">
    <type>transmission_interface/SimpleTransmission</type>
    <joint name="j_ankle1_r">
      <hardwareInterface>EffortJointInterface</hardwareInterface>
    </joint>
    <actuator name="j_ankle1_r_motor">
      <hardwareInterface>EffortJointInterface</hardwareInterface>
      <mechanicalReduction>1</mechanicalReduction>
    </actuator>
  </transmission>
  <gazebo reference="j_ankle1_r">
    <implicitSpringDamper>1</implicitSpringDamper>
  </gazebo>
  <transmission name="j_ankle2_r_transmssion">
    <type>transmission_interface/SimpleTransmission</type>
    <joint name="j_ankle2_r">
      <hardwareInterface>EffortJointInterface</hardwareInterface>
    </joint>
    <actuator name="j_ankle2_r_motor">
      <hardwareInterface>EffortJointInterface</hardwareInterface>
      <mechanicalReduction>1</mechanicalReduction>
    </actuator>
  </transmission>
  <gazebo reference="j_ankle2_r">
    <implicitSpringDamper>1</implicitSpringDamper>
  </gazebo>
  <gazebo reference="MP_ANKLE2_L">
    <material>Gazebo/White</material>
    <mu1>9000</mu1>
    <mu2>9000</mu2>
    <kp>1000000.0</kp>
    <kd>10.0</kd>
    <minDepth>0.001</minDepth>
    <maxContacts>1</maxContacts>
  </gazebo>
  <gazebo reference="MP_ANKLE2_R">
    <material>Gazebo/White</material>
    <mu1>9000</mu1>
    <mu2>9000</mu2>
    <kp>1000000.0</kp>
    <kd>10.0</kd>
    <minDepth>0.001</minDepth>
    <maxContacts>1</maxContacts>
  </gazebo>
  <gazebo>
    <plugin filename="libgazebo_ros_control.so" name="gazebo_ros_control">
      <robotNamespace>robotis_op</robotNamespace>
    </plugin>
  </gazebo>



</robot>
